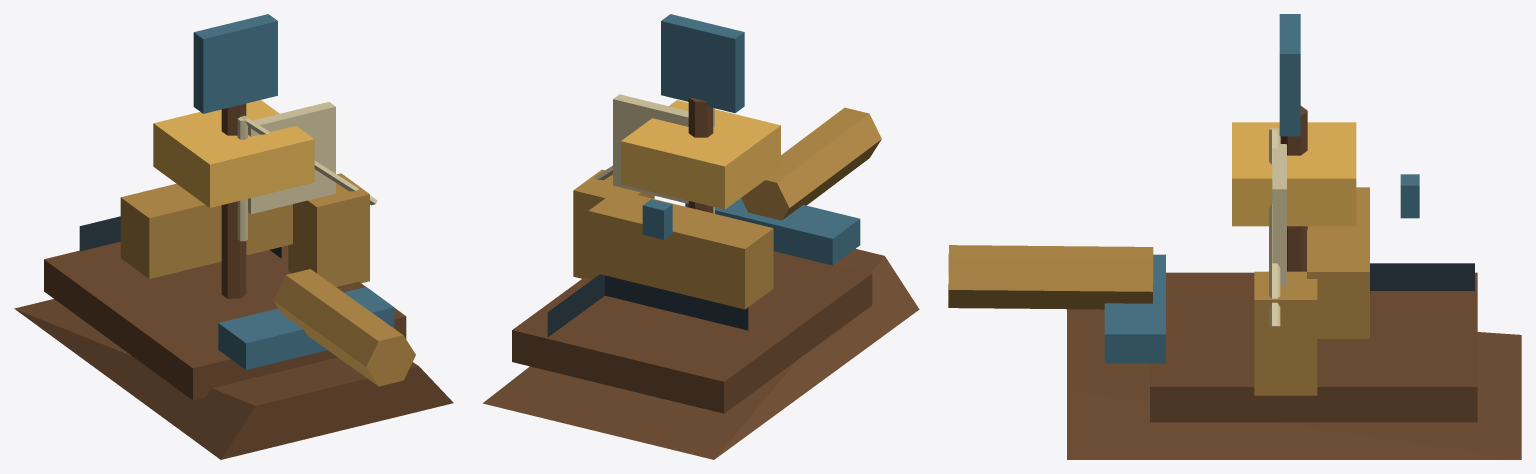
File: light-warship.obj
3 renders of one model, left to right at view 1: azimuth 30°, elevation 25°; view 2: azimuth 150°, elevation 25°; view 3: azimuth 270°, elevation 25°, orthographic. The views are drawn at different scales.
Visible parts, largest first — view 1: ship; view 2: ship; view 3: ship.
Part boxes in pixels (x1,y1,x2,y2): ship: (14, 14, 453, 459); ship: (482, 14, 919, 459); ship: (948, 14, 1521, 459).
Bounding box in the file's own units: 1.51 × 1.9 × 2.72.
